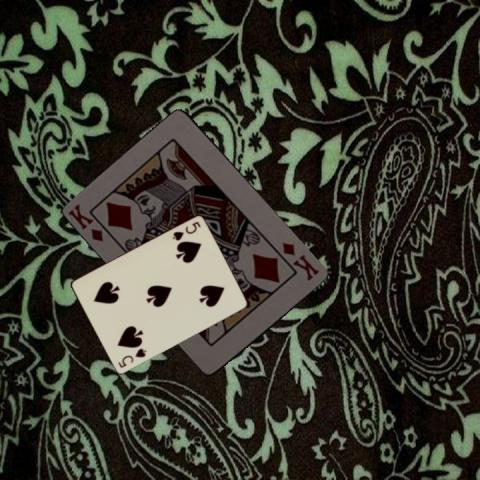5s: (169, 218, 202, 243), (115, 346, 148, 370)
Kd: (66, 201, 116, 243), (280, 239, 322, 282)
